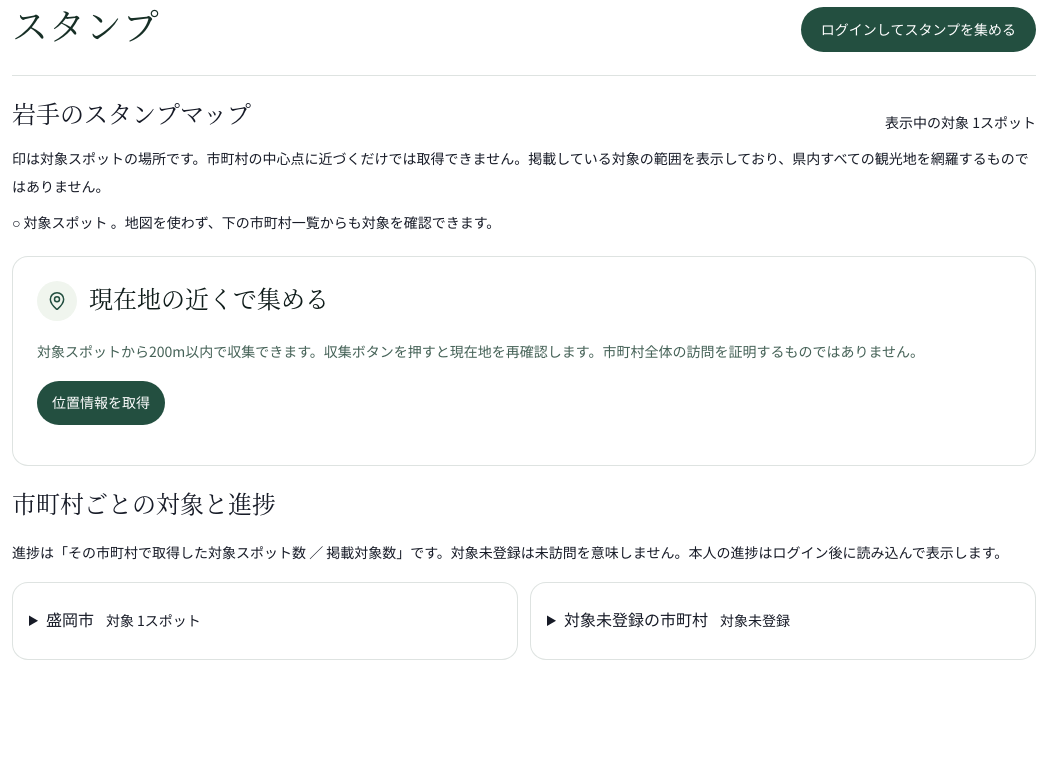
Test case: 公開スタンプマップと本人収集 › 位置情報拒否を案内し、地図と対象一覧の閲覧を残す
Click the button "位置情報を取得" at [101, 402], box [37,380,165,424]
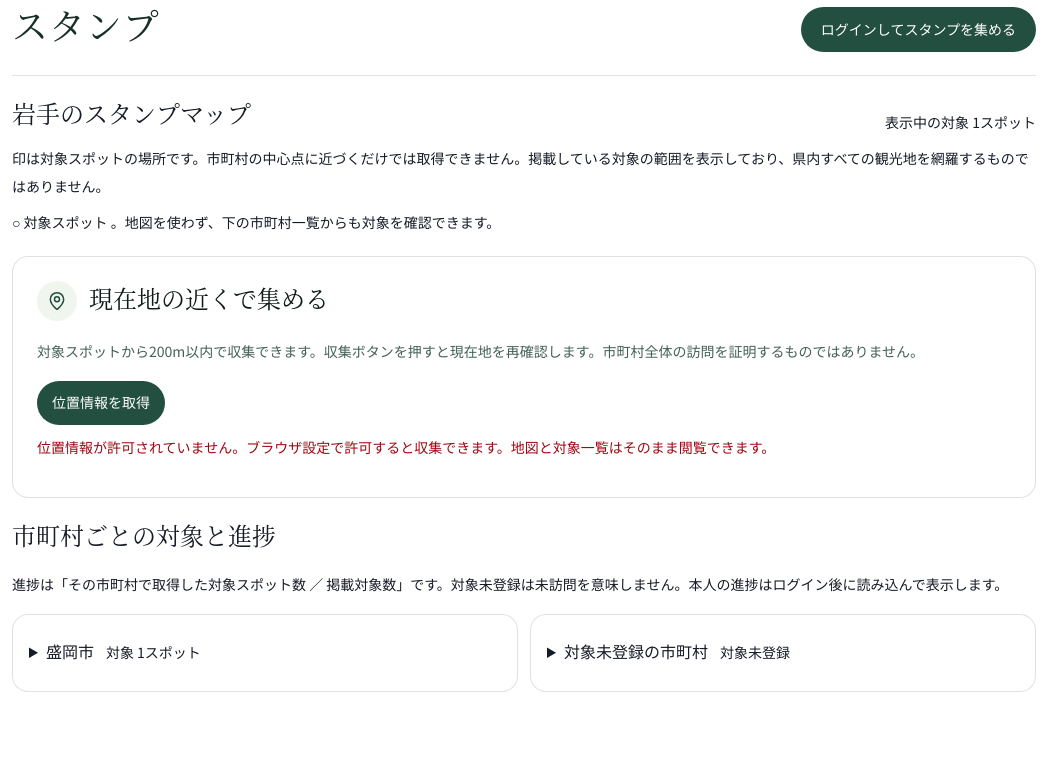
Expected: the text "盛岡市" is shown, [46,638,94,662]
Result: the message shows "地図と対象一覧はそのまま閲覧できます" at [37,436,775,456]
